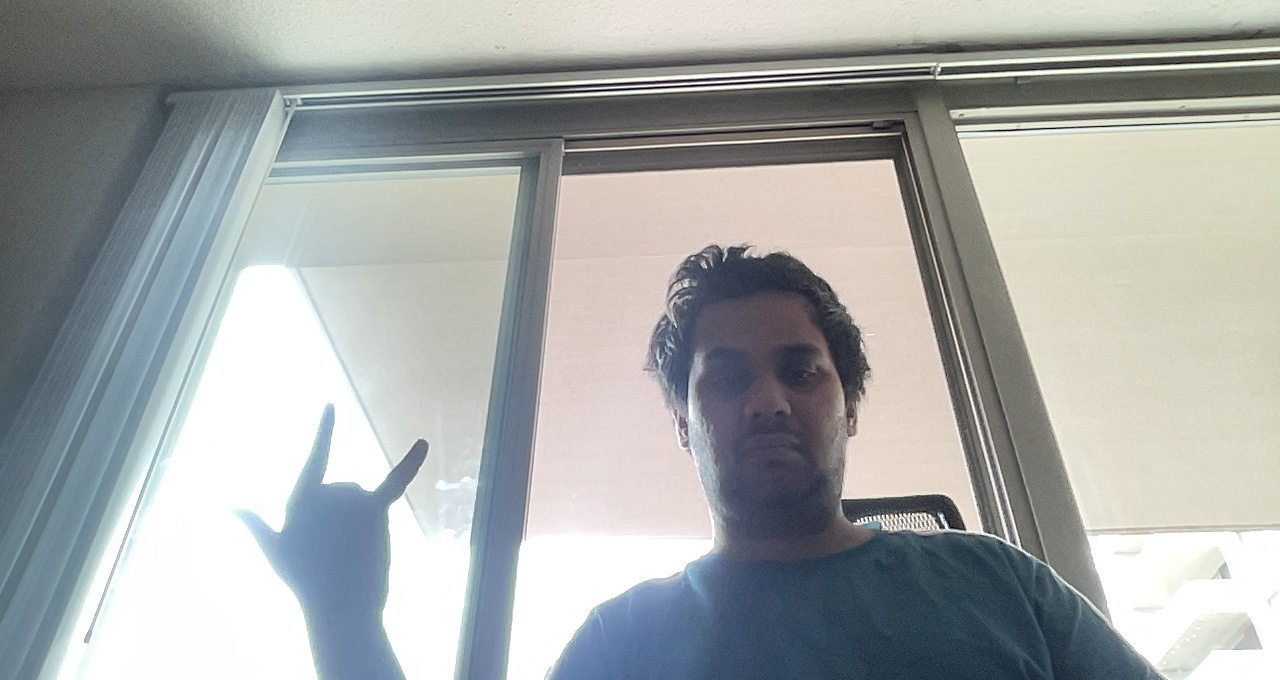rockon sign: (225, 399, 438, 625)
